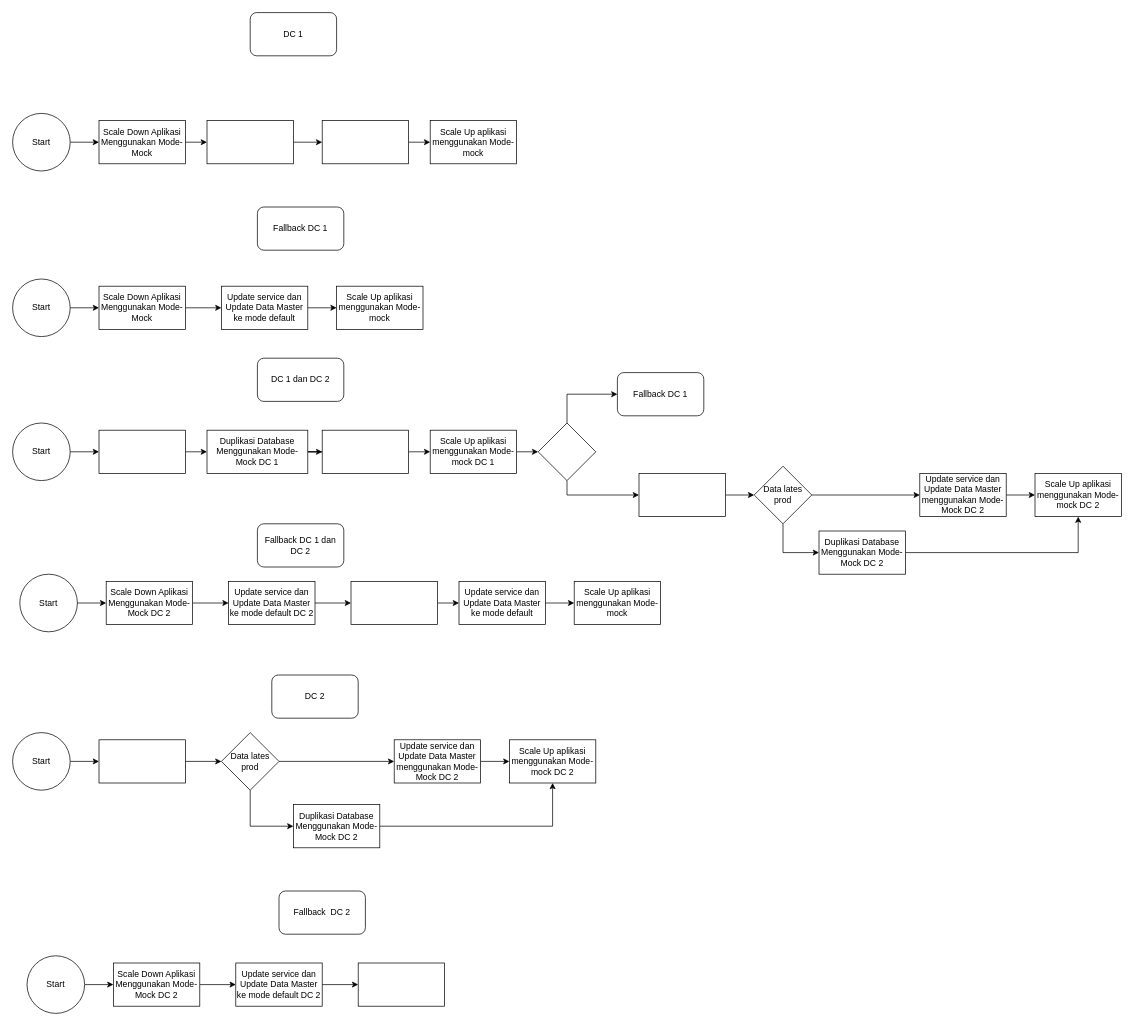
This 1134x1026 diagram has some shape labels left out. Here are the shapes that lost their labels. From the top down, the centre of each, then its label:
At (249,142): "Duplikasi Database Menggunakan Mode-Mock".
At (365,142): "Update service dan Update Data Master menggunakan Mode-Mock".
At (141,451): "Scale Down Aplikasi Menggunakan Mode-Mock DC 1".
At (365,451): "Update service dan Update Data Master menggunakan Mode-Mock DC 1".
At (566,451): "Persiapan DC 2".
At (681,495): "Jalankan CTM untuk pindah ke DC 2 Tanpa menjalankan script scale".
At (393,603): "Jalankan CTM untuk pindah ke DC 1 tanpa scale up service".
At (141,761): "Jalankan CTM untuk pindah ke DC 2 tanpa menjalankan scale up".
At (401,984): "Jalankan CTM untuk pindah ke DC 1".
